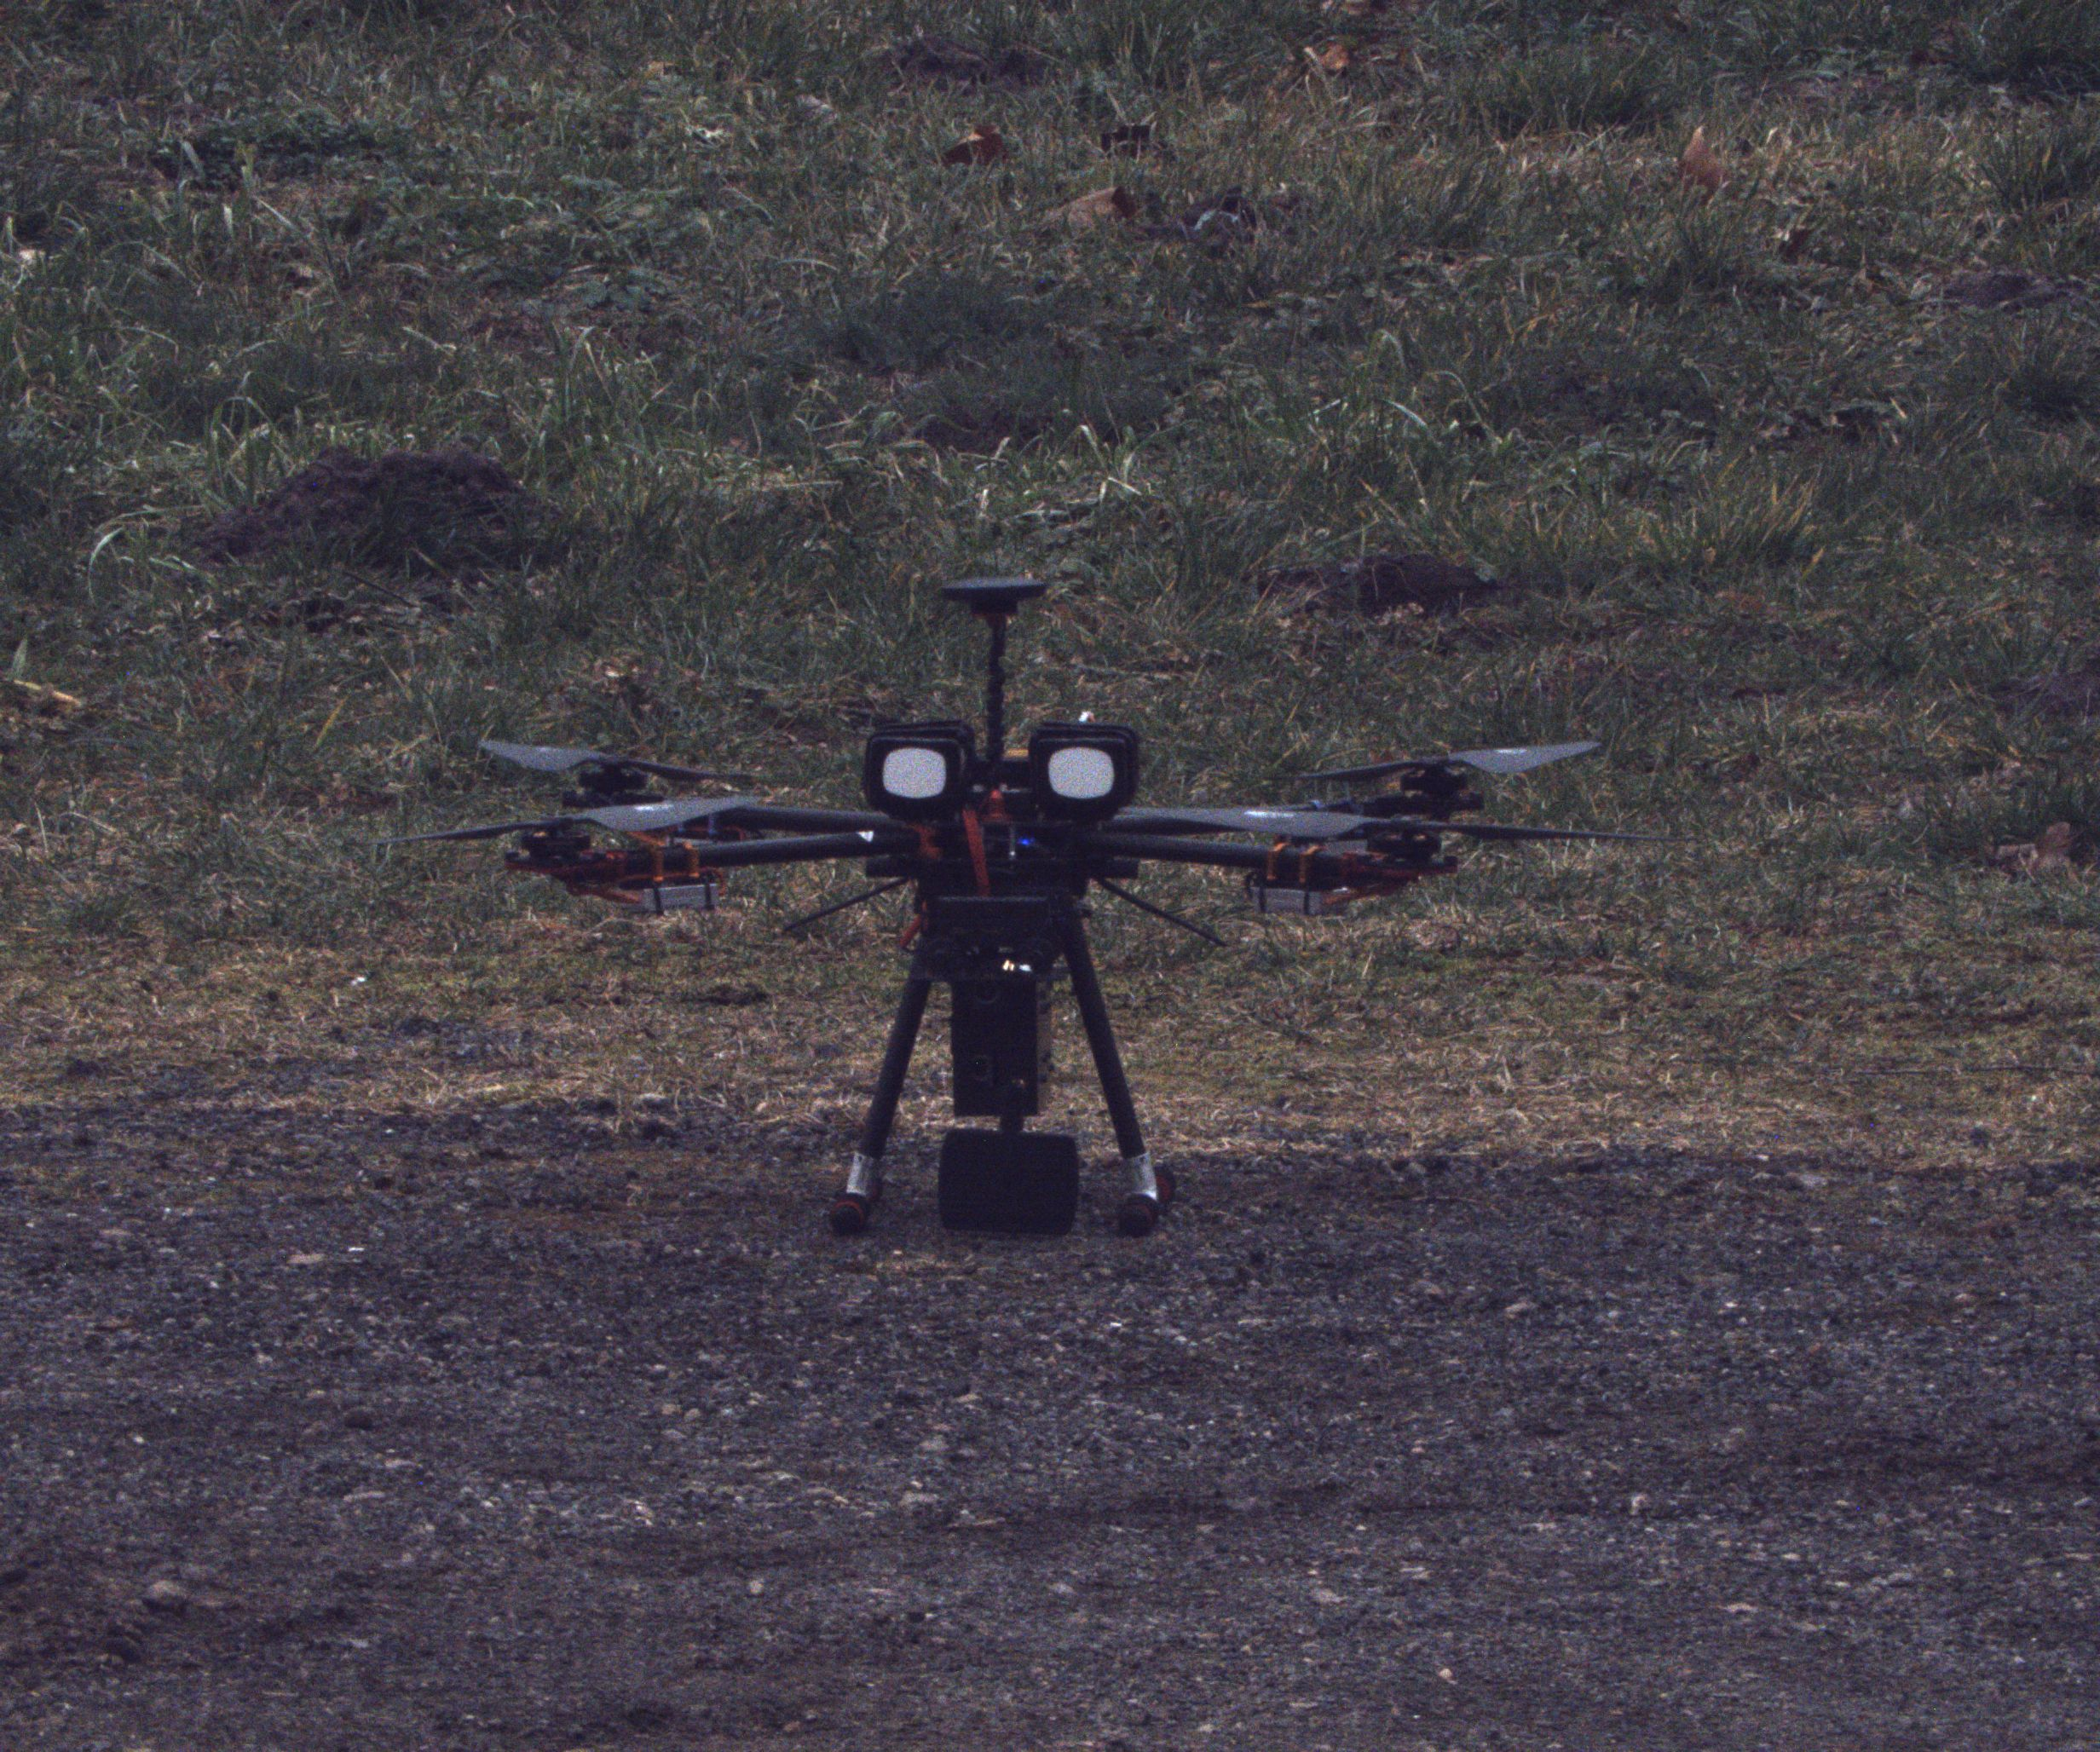Drohne: (352, 493, 1709, 1274)
